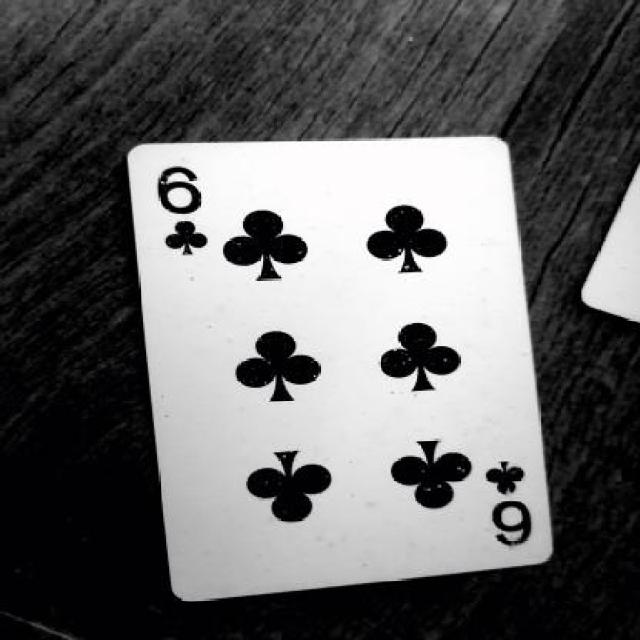6C: (154, 160, 218, 266), (480, 457, 538, 560)
